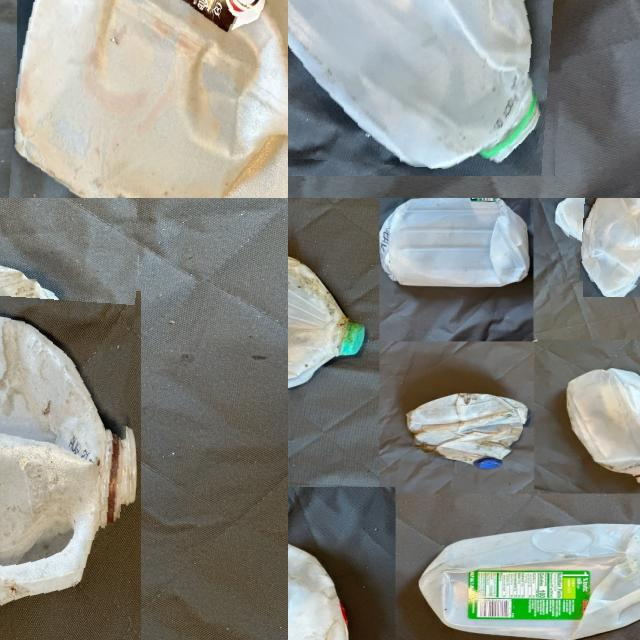milk-jug: (11, 0, 288, 198), (288, 0, 573, 170), (0, 265, 129, 640), (420, 520, 640, 640), (377, 198, 529, 291), (288, 248, 360, 406), (402, 392, 534, 472), (563, 368, 640, 482), (567, 198, 640, 285)
